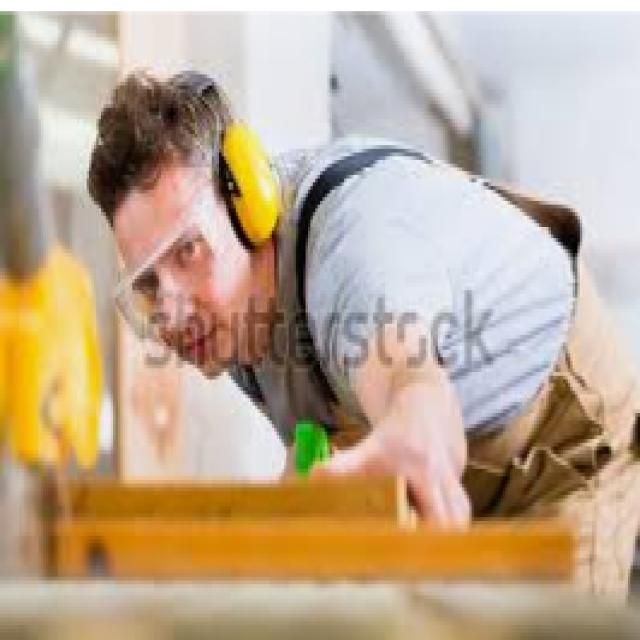glasses: (115, 194, 248, 346)
